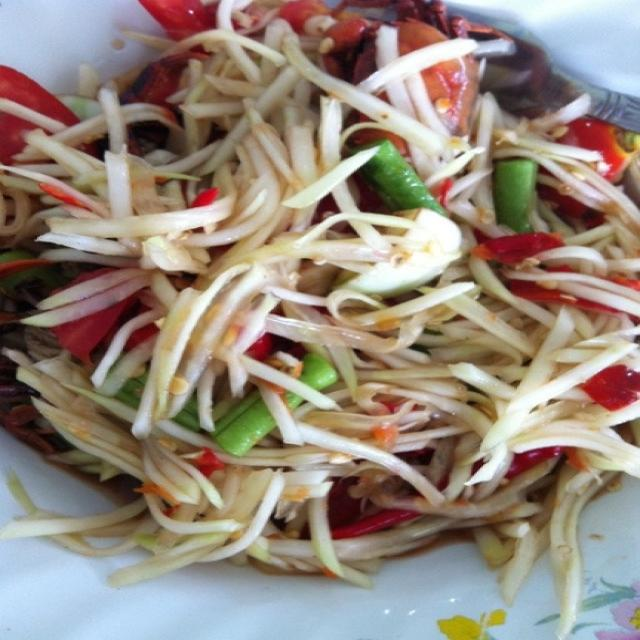蔬菜料理: (12, 27, 632, 591)
